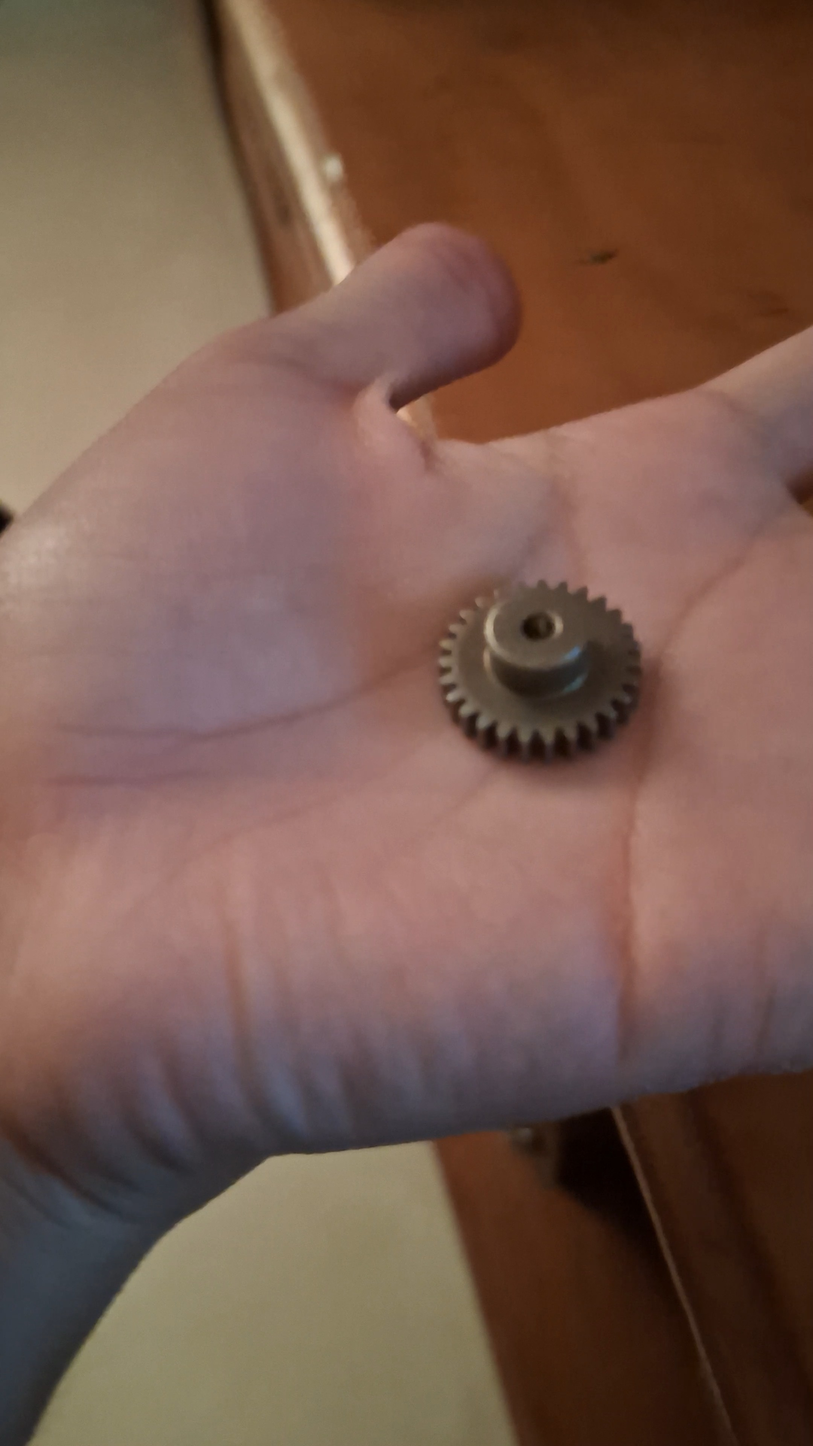spur gear: (440, 583, 641, 760)
